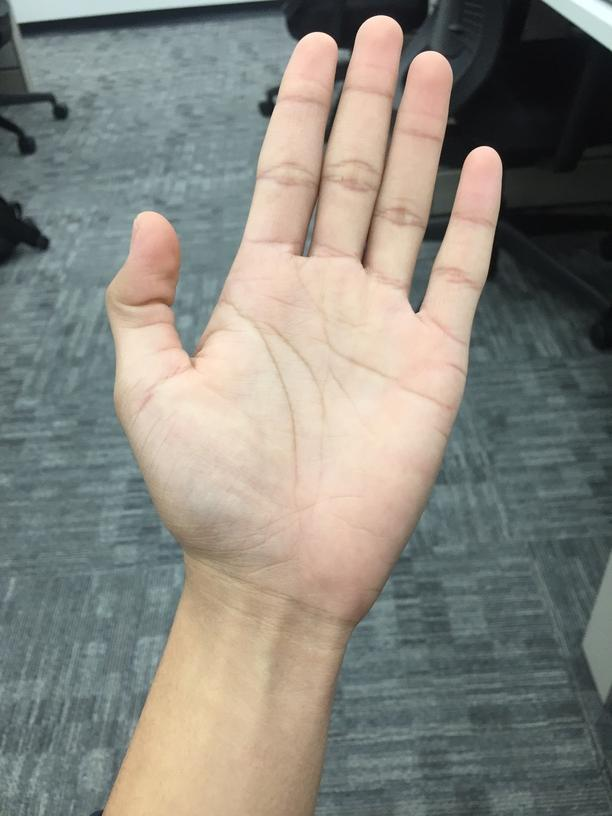hand: (106, 9, 504, 646)
